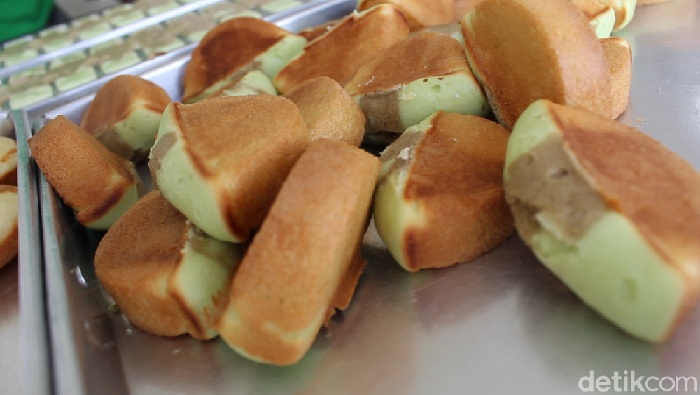pukis: (519, 75, 700, 349)
